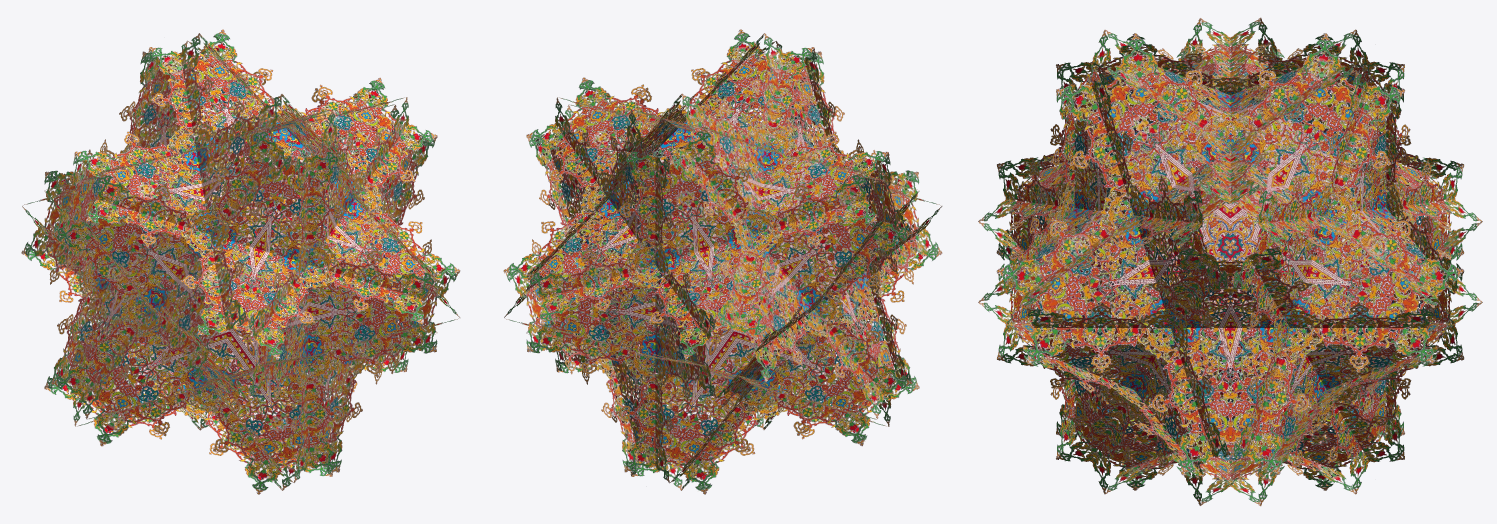
Rendered from GreatDodecahedron4.obj.
3 views of the same model, side by side, from view 1: azimuth 30°, elevation 25°; view 2: azimuth 150°, elevation 25°; view 3: azimuth 270°, elevation 25° (orthographic). The views are drawn at different scales.
Bounding box in the file's own units: 1.62 × 1.62 × 1.62.
1 material, 1 textured.
